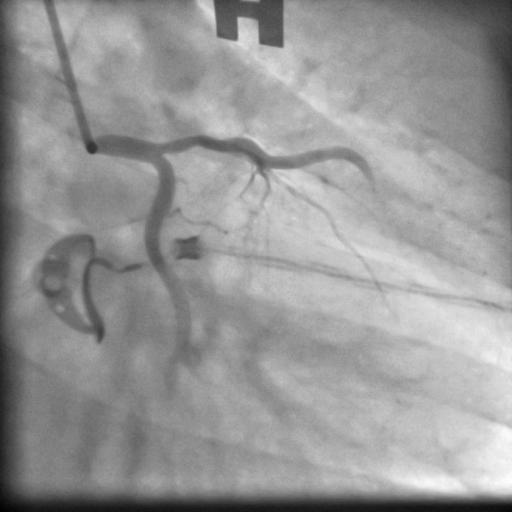Stenosis: (172, 132, 214, 152)
